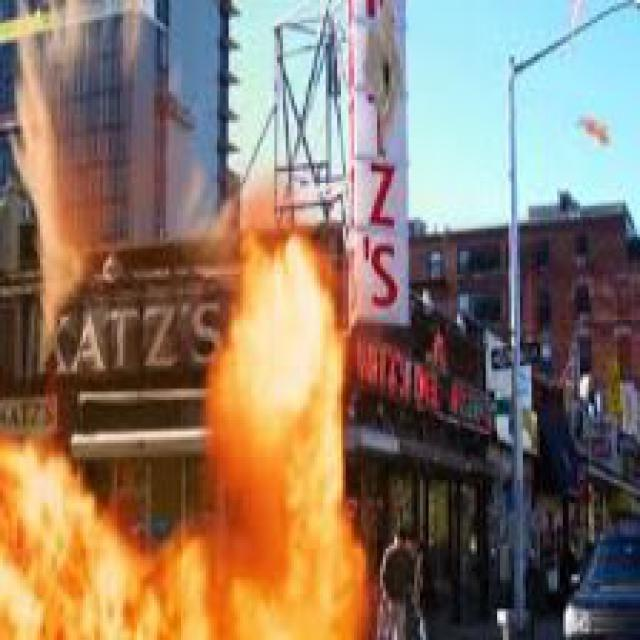fire: (3, 226, 397, 637)
